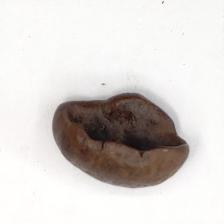NG: (63, 93, 189, 157)
